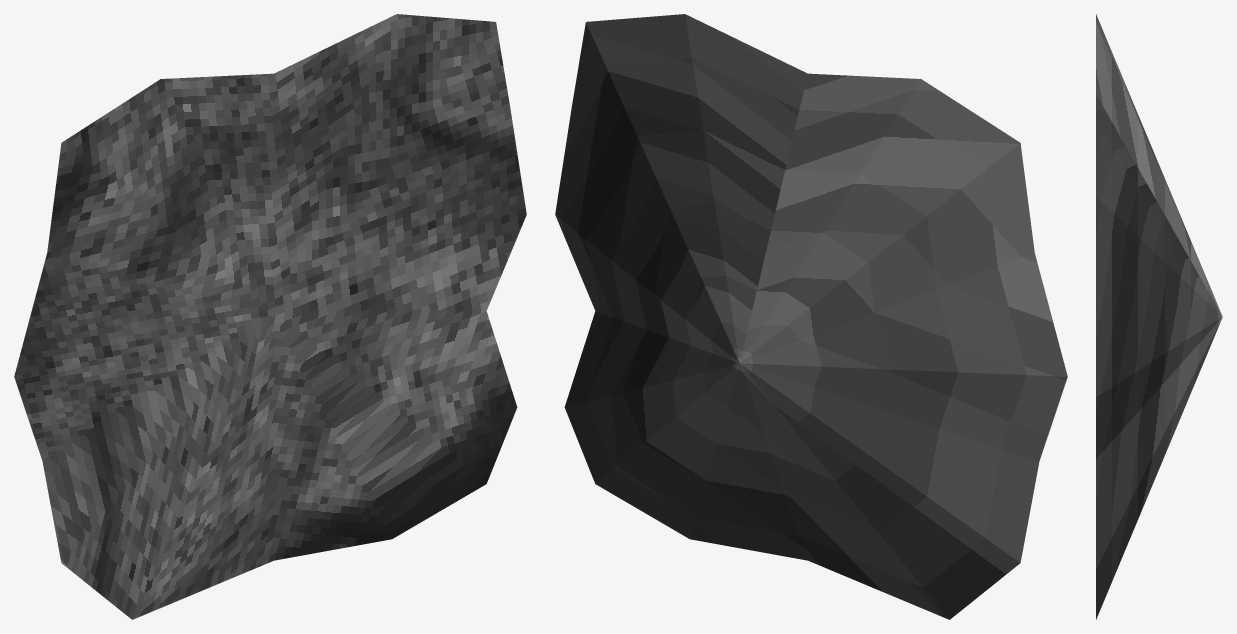
The model's file is stone.glb.
3 renders of one model, left to right at view 1: azimuth 30°, elevation 25°; view 2: azimuth 150°, elevation 25°; view 3: azimuth 270°, elevation 25°, orthographic. The views are drawn at different scales.
Visible parts, largest first — view 1: Plane; view 2: Plane; view 3: Plane.
Part boxes in pixels (box(x1,y1,x2,y2)): Plane: box(14, 14, 526, 619); Plane: box(555, 14, 1067, 619); Plane: box(1096, 14, 1222, 619).
Size of the model in its own units: 2.17 by 2.19 by 0.5.
Materials: 1 (1 with a texture image).
